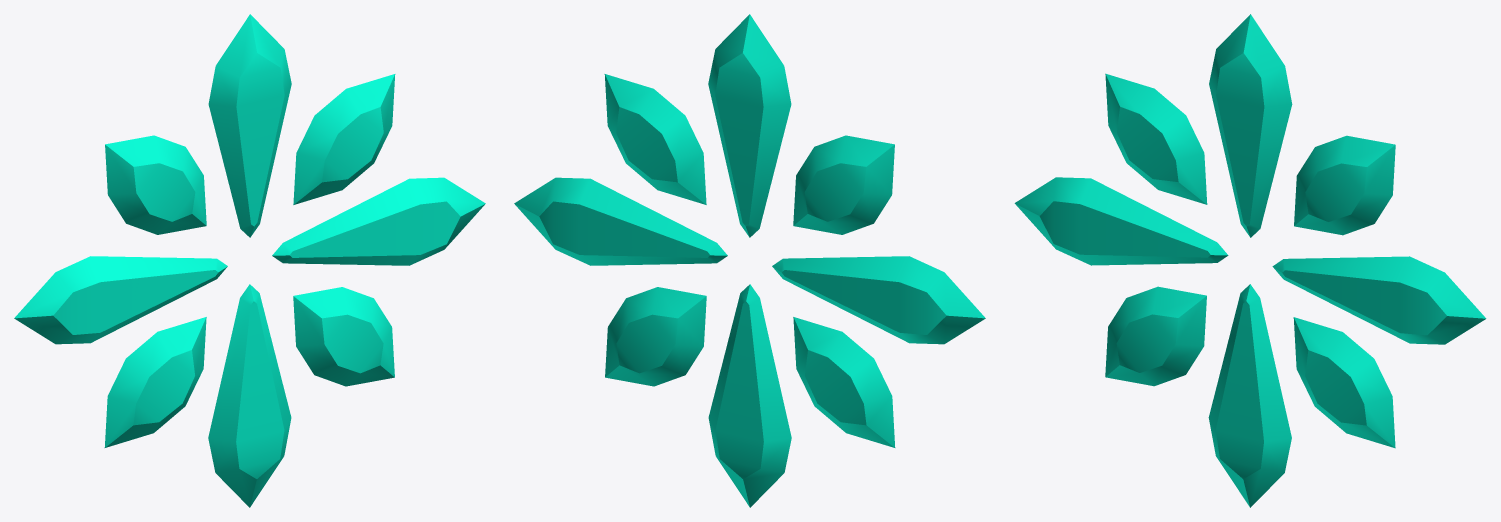
The model's file is SnowCrystal_TypeD.FBX.
3 views of the same model, side by side, from view 1: azimuth 30°, elevation 25°; view 2: azimuth 150°, elevation 25°; view 3: azimuth 330°, elevation 25° (orthographic).
Visible parts, largest first — view 1: SnowCrystal_TypeD; view 2: SnowCrystal_TypeD; view 3: SnowCrystal_TypeD.
Boxes of the visible parts, box(x1,y1,x2,y2) form: SnowCrystal_TypeD: box(14, 14, 485, 507); SnowCrystal_TypeD: box(514, 14, 985, 507); SnowCrystal_TypeD: box(1014, 14, 1486, 507).
Size of the model in its own units: 25.35 by 25.35 by 1.94.
